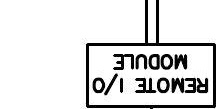remote_io_module: (86, 42, 217, 108)
